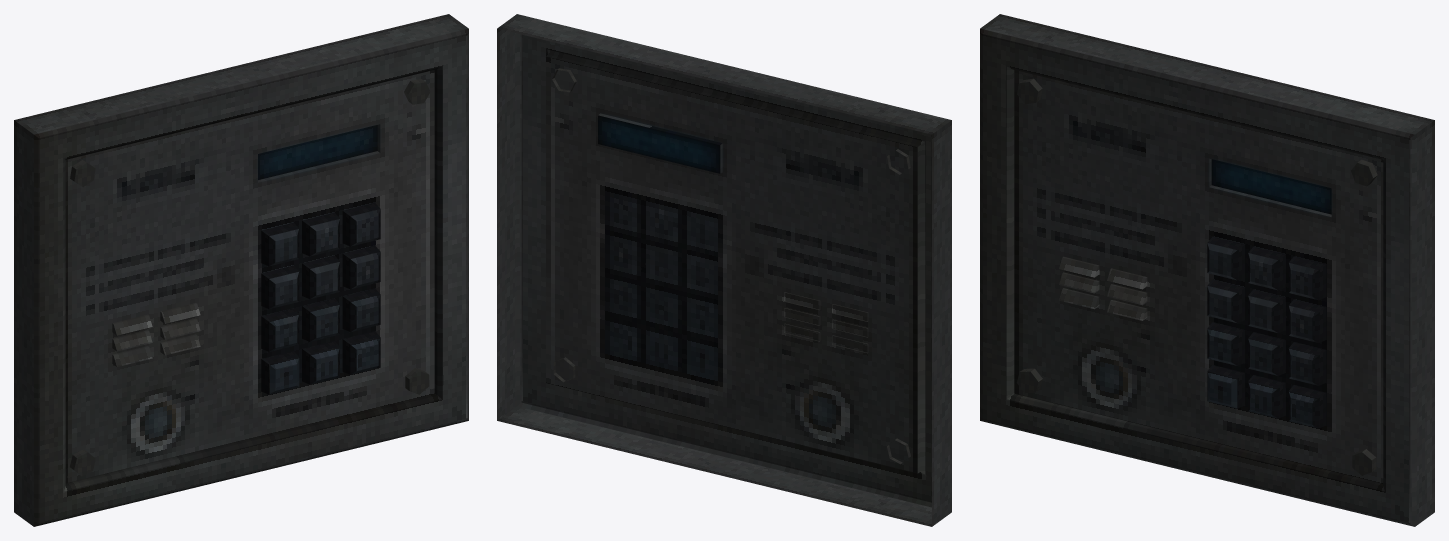
Rendered from keypad_1.glb.
3 renders of one model, left to right at view 1: azimuth 30°, elevation 25°; view 2: azimuth 150°, elevation 25°; view 3: azimuth 330°, elevation 25°, orthographic.
Visible parts, largest first — view 1: keypad_1; view 2: keypad_1; view 3: keypad_1.
Boxes of the visible parts, x1,y1,x2,y2 form: keypad_1: (14, 14, 468, 526); keypad_1: (497, 14, 951, 526); keypad_1: (980, 14, 1434, 526).
Bounding box in the file's own units: 0.29 × 0.25 × 0.03.
1 material, 1 textured.
